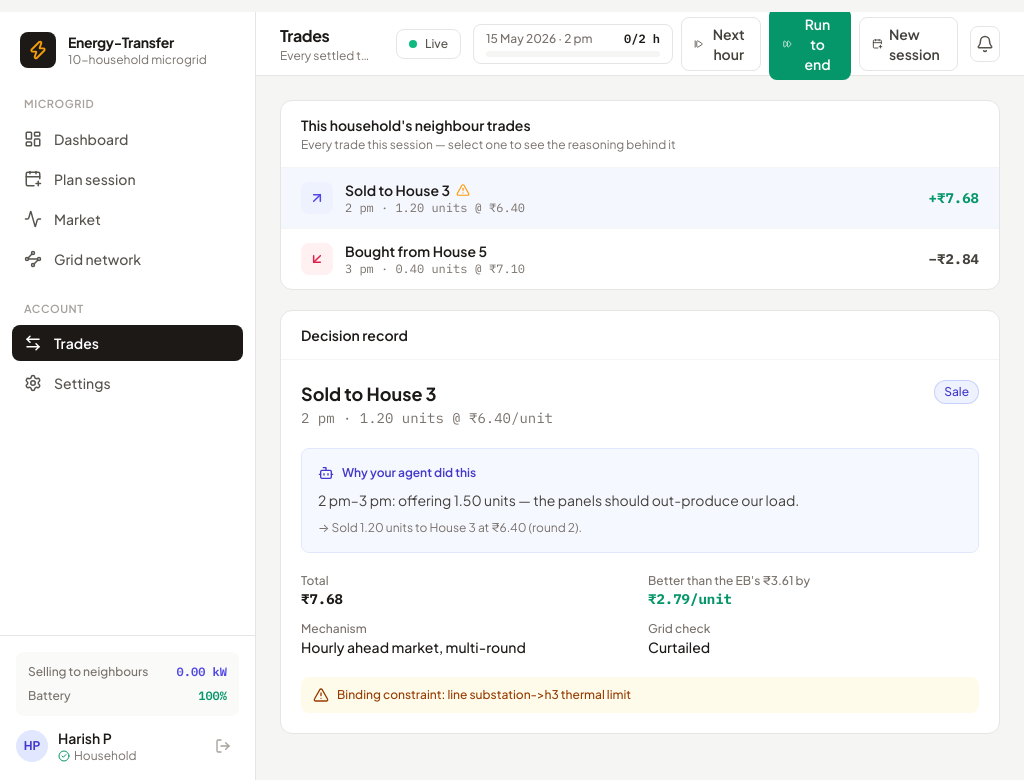
Test case: interactions › selecting a purchase shows its own decision record
Click the button "Bought from House 5 3 pm · 0.40 units @ ₹7.10 −₹2.84". click: [317, 259]
box: [281,229,999,289]
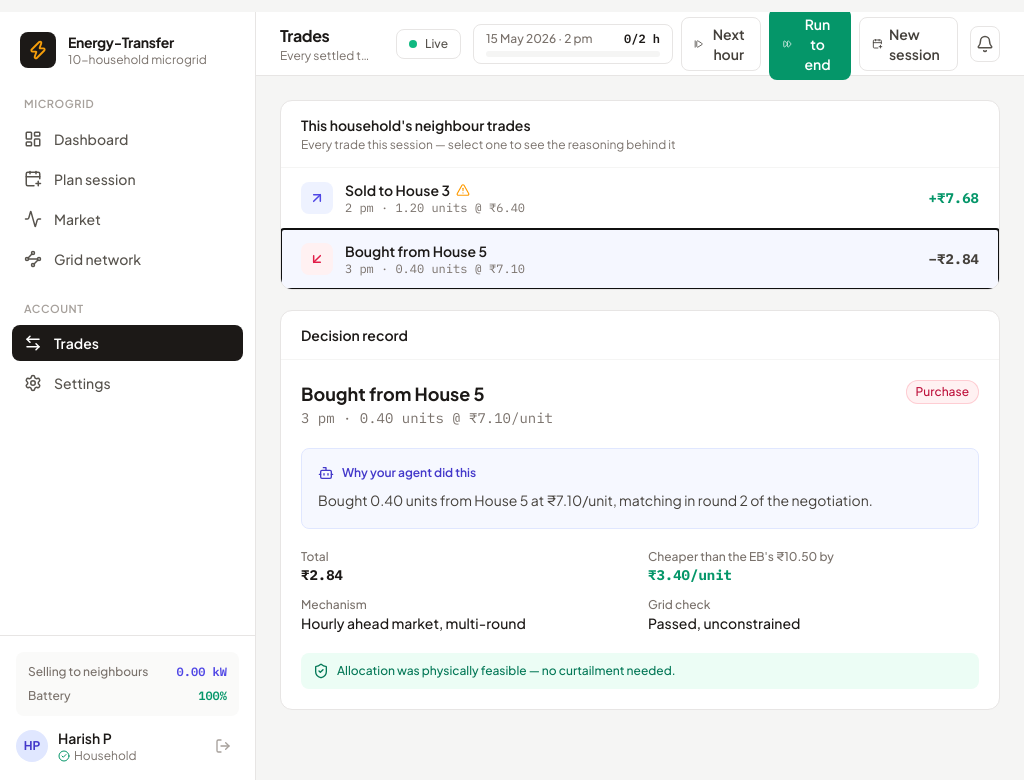
Expected: the heading "Bought from House 5" is shown, [301,382,485,405]
Expected: the text "Cheaper than the EB's ₹10.50 by" is shown, [648,549,834,564]
